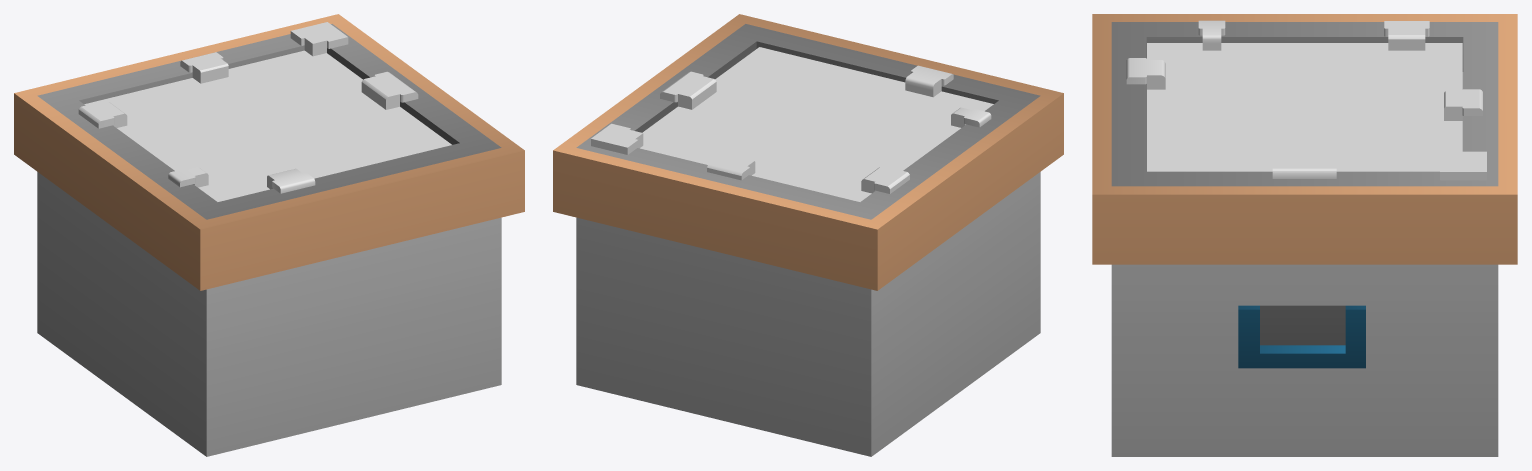
Rendered from Mesa_PinturaV2.fbx.
3 views of the same model, side by side, from view 1: azimuth 30°, elevation 25°; view 2: azimuth 150°, elevation 25°; view 3: azimuth 270°, elevation 25° (orthographic). The views are drawn at different scales.
Visible parts, largest first — view 1: Mesa_Pintura_V2, pintura_recger; view 2: Mesa_Pintura_V2, pintura_recger; view 3: Mesa_Pintura_V2, pintura_recger.
Part boxes in pixels (x1,y1,x2,y2): Mesa_Pintura_V2: [14, 14, 524, 456]; pintura_recger: [78, 22, 451, 201]; Mesa_Pintura_V2: [553, 14, 1063, 456]; pintura_recger: [591, 47, 993, 201]; Mesa_Pintura_V2: [1092, 14, 1517, 456]; pintura_recger: [1126, 20, 1486, 180].
Size of the model in its own units: 22.12 by 15.96 by 22.01.
